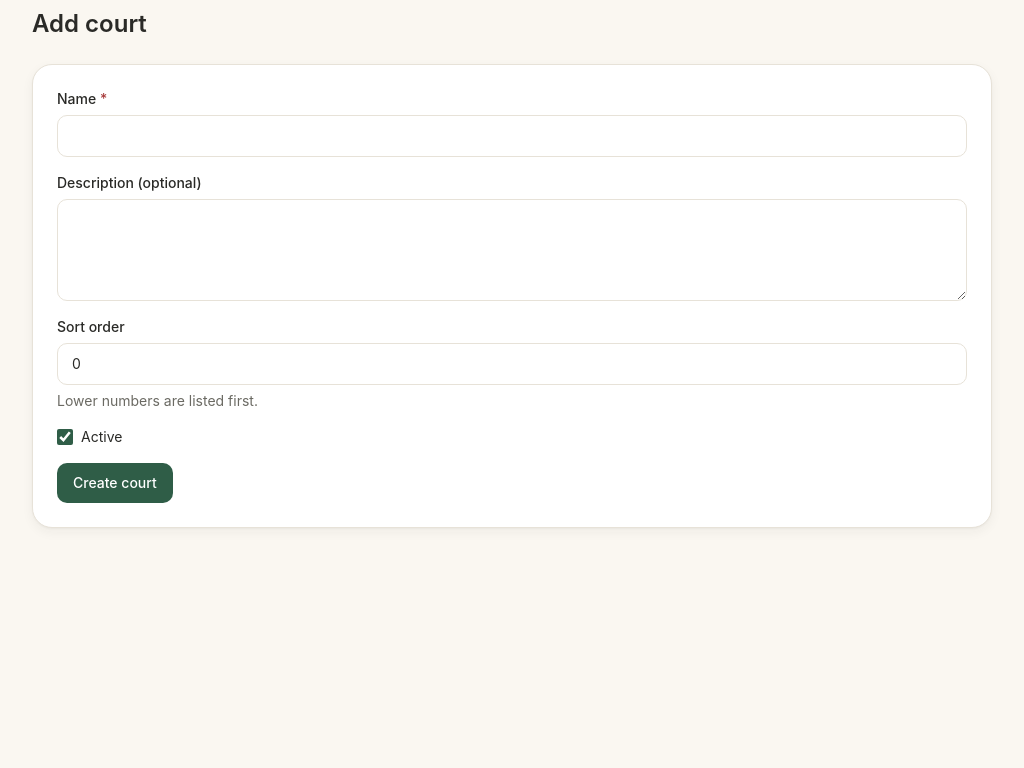
CourtFormPage — create mode › requires a name before submitting
Click the button "Create court". click: (115,483)
box: 57,463 -> 173,503
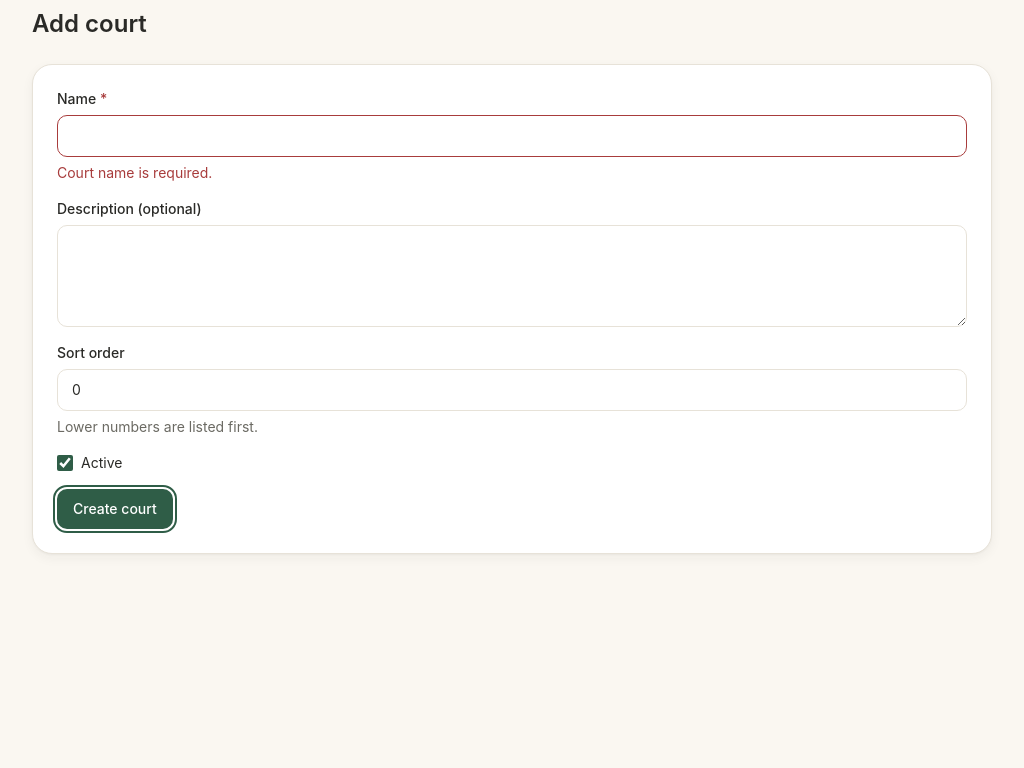
Now the message reads "Court name is required.", box 57,164 -> 212,181
